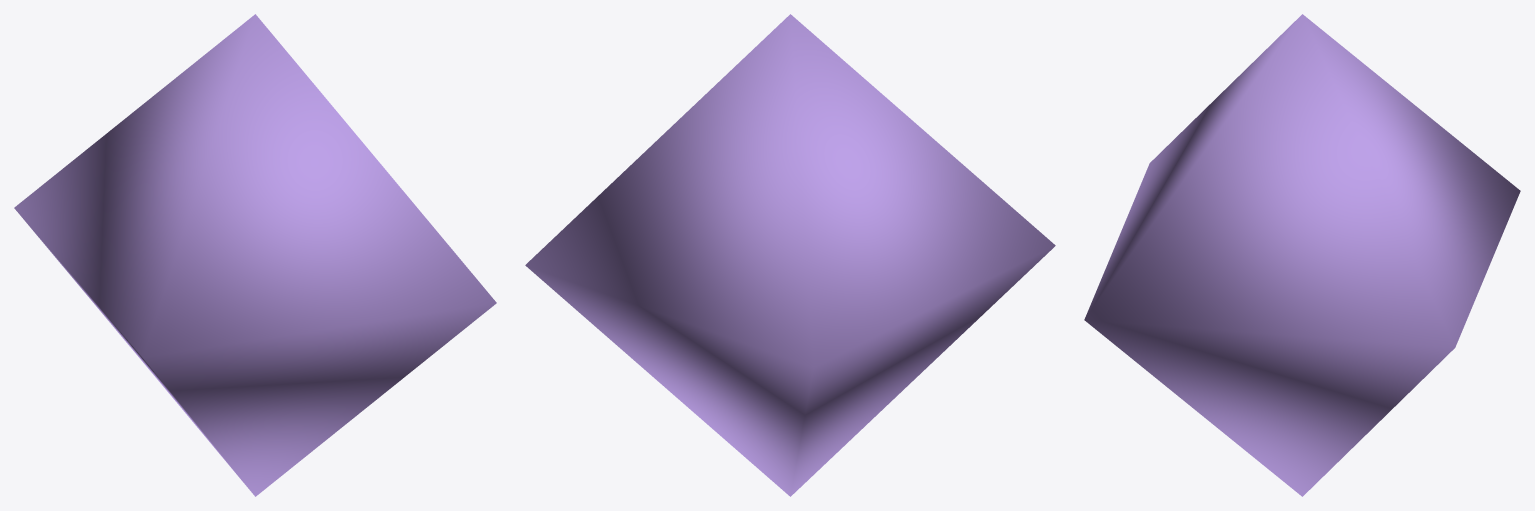
The model's file is cam_31.DAE.
The picture shows the model from 3 angles, left to right: view 1: azimuth 30°, elevation 25°; view 2: azimuth 150°, elevation 25°; view 3: azimuth 270°, elevation 25°; orthographic projection.
Visible parts, largest first — view 1: CamDummy; view 2: CamDummy; view 3: CamDummy.
Part boxes in pixels (x1=…): CamDummy: x1=14, y1=14, x2=496, y2=496; CamDummy: x1=525, y1=14, x2=1055, y2=496; CamDummy: x1=1084, y1=14, x2=1520, y2=496.
Bounding box in the file's own units: 32.77 × 32.77 × 40.
